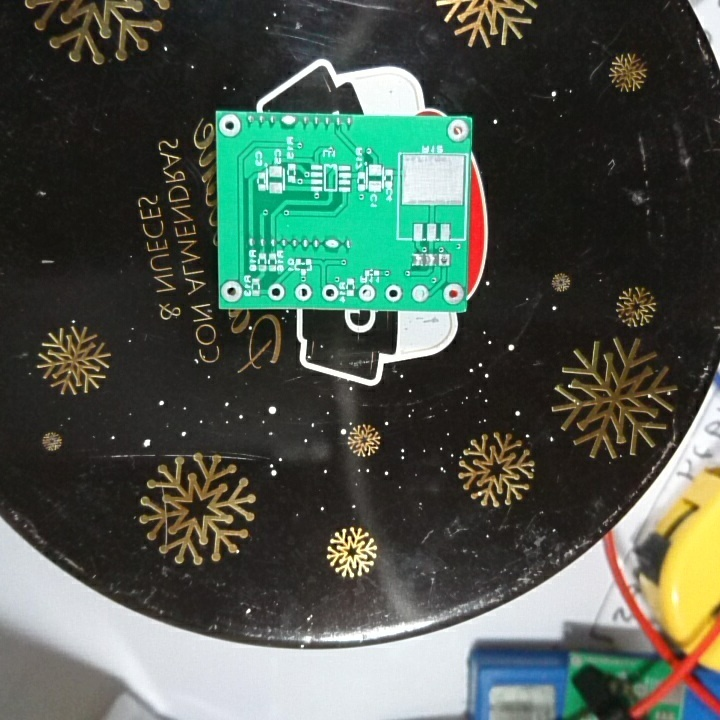F: (445, 116, 470, 146), (218, 112, 243, 140), (221, 279, 247, 304), (292, 280, 315, 304), (442, 280, 464, 304), (355, 283, 379, 305), (383, 283, 403, 304), (321, 283, 341, 304), (267, 282, 287, 303), (408, 283, 427, 305), (437, 250, 452, 269)
P: (321, 235, 342, 255), (277, 112, 299, 131)
